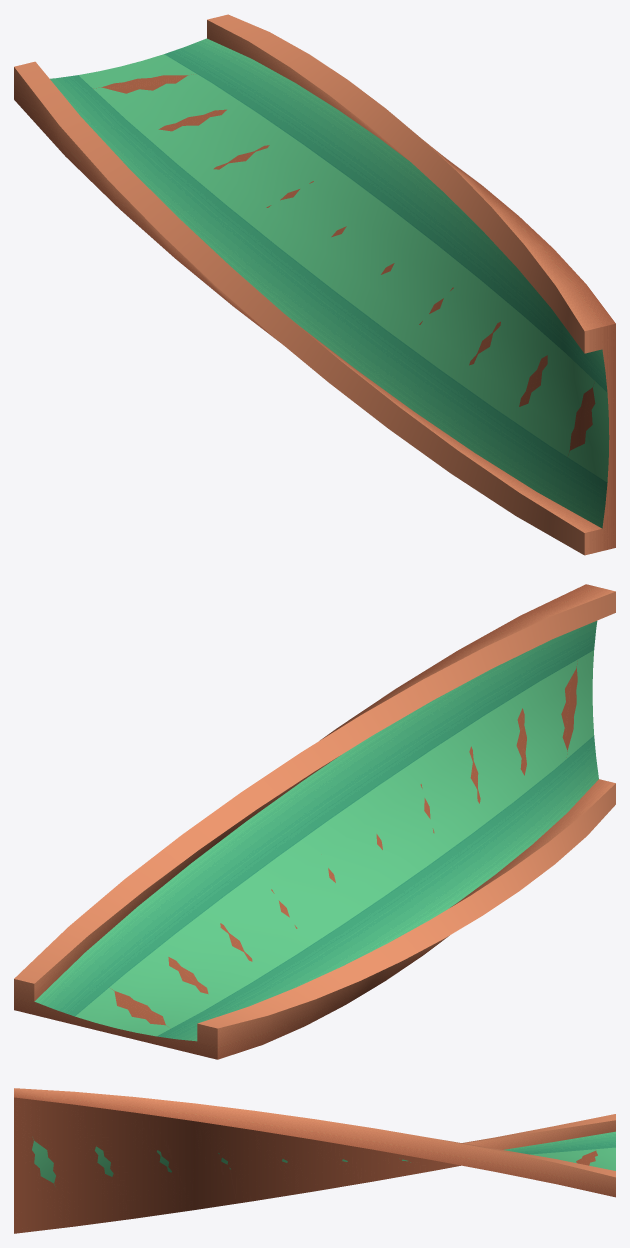
Rendered from spline-concave-straight-skew-right-side.glb.
3 renders of one model, top to bottom at view 1: azimuth 30°, elevation 25°; view 2: azimuth 150°, elevation 25°; view 3: azimuth 270°, elevation 25°, orthographic. The views are drawn at different scales.
Visible parts, largest first — view 1: spline-concave-straight-skew-right-side; view 2: spline-concave-straight-skew-right-side; view 3: spline-concave-straight-skew-right-side.
Part boxes in pixels (x1,y1,x2,y2): spline-concave-straight-skew-right-side: (14, 14, 615, 555); spline-concave-straight-skew-right-side: (14, 584, 615, 1059); spline-concave-straight-skew-right-side: (14, 1088, 615, 1233).
Bounding box in the file's own units: 1.02 × 1.02 × 4.
1 material, 1 textured.
